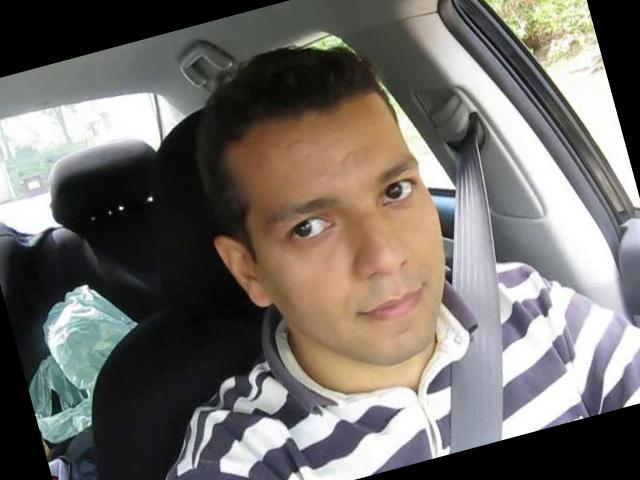eye_open: (277, 204, 340, 252), (372, 168, 426, 216)
face: (247, 134, 480, 388)
